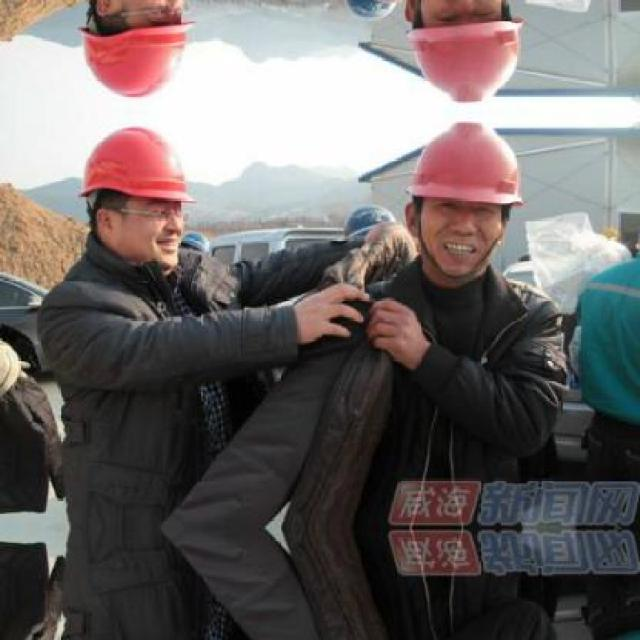helmet: (389, 118, 537, 282), (64, 116, 207, 276), (63, 0, 208, 108), (389, 0, 538, 105), (340, 198, 395, 251), (175, 225, 212, 270), (340, 0, 397, 25)
